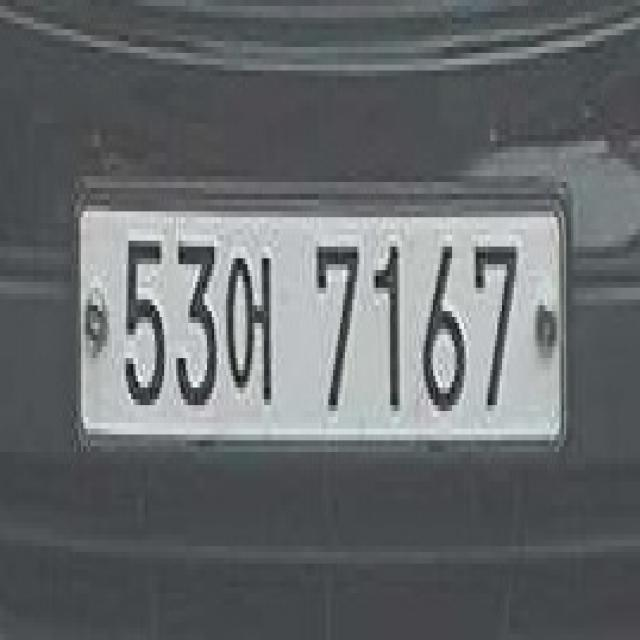1: (369, 242, 407, 424)
3: (174, 230, 222, 423)
5: (117, 226, 170, 422)
6: (418, 251, 470, 414)
7: (472, 235, 526, 412), (311, 233, 362, 418)
eo: (224, 234, 280, 413)
license_plate: (72, 168, 570, 478)
